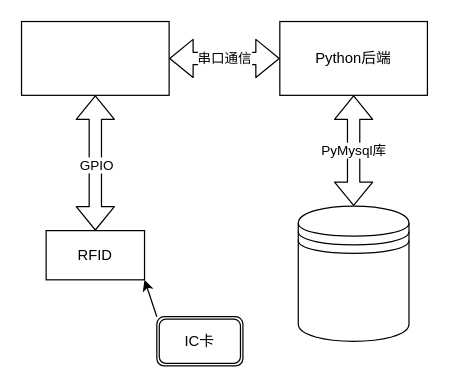
This 449x387 diagram has some shape labels left out. The centre of each missing label's shape, as x and y in pixels:
"CC2530" belongs at point (94, 57).
"Mysql数据库" belongs at point (353, 273).
